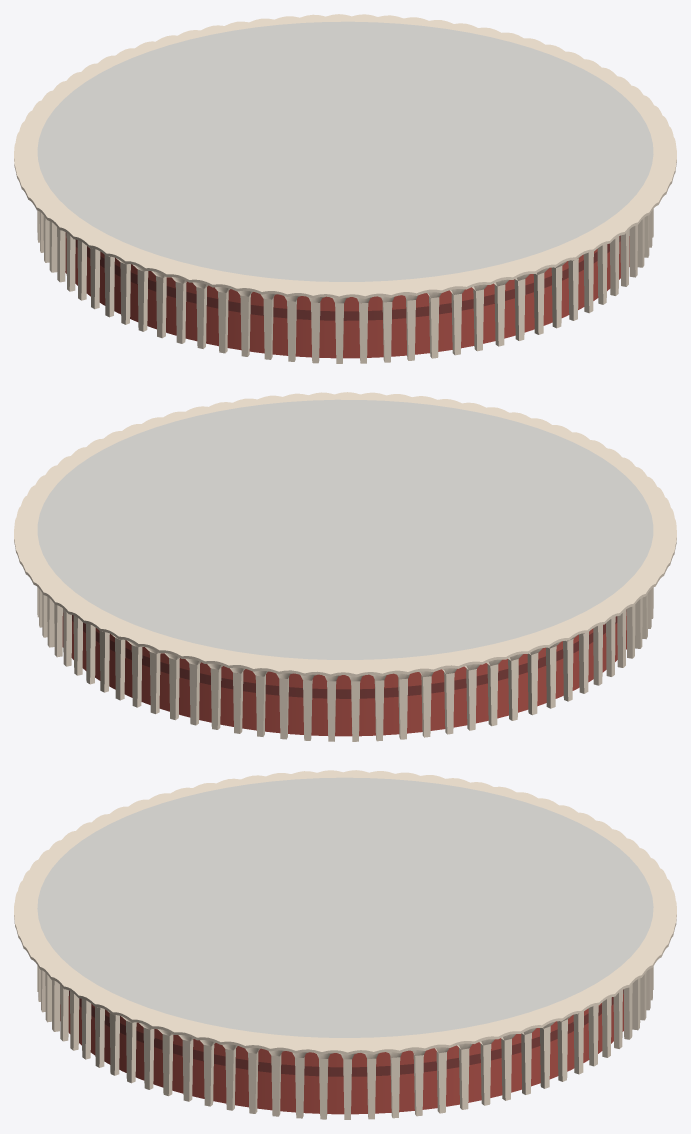
File: detail.glb
3 views of the same model, one above another, from view 1: azimuth 30°, elevation 25°; view 2: azimuth 150°, elevation 25°; view 3: azimuth 270°, elevation 25° (orthographic).
Parts seen in each view (by area): view 1: kia-forum; view 2: kia-forum; view 3: kia-forum.
Boxes of the visible parts, bbox=[...] form: kia-forum: bbox=[14, 14, 676, 363]; kia-forum: bbox=[14, 392, 676, 741]; kia-forum: bbox=[14, 770, 676, 1119].
Bounding box in the file's own units: 133 × 18.65 × 133.
